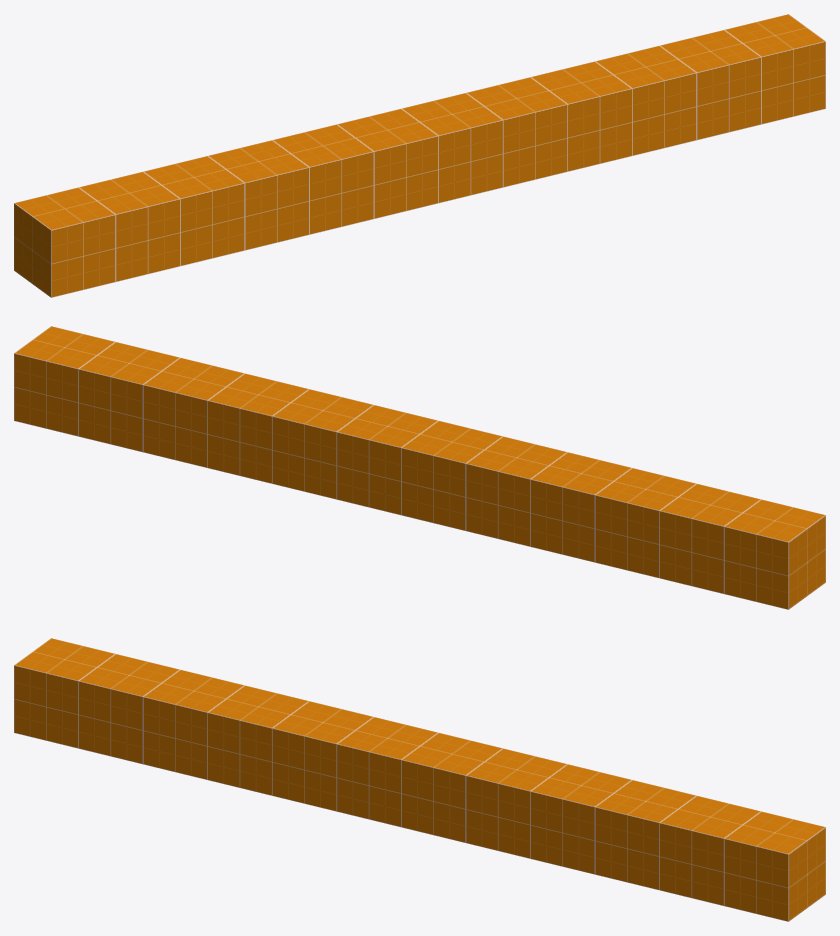
Rendered from Block_12x1x1.obj.
The picture shows the model from 3 angles, top to bottom: view 1: azimuth 30°, elevation 25°; view 2: azimuth 150°, elevation 25°; view 3: azimuth 330°, elevation 25°; orthographic projection.
Visible parts, largest first — view 1: Block_12x1x1_Cube.236; view 2: Block_12x1x1_Cube.236; view 3: Block_12x1x1_Cube.236.
Boxes of the visible parts, x1=… form: Block_12x1x1_Cube.236: x1=14, y1=14, x2=825, y2=297; Block_12x1x1_Cube.236: x1=14, y1=326, x2=825, y2=609; Block_12x1x1_Cube.236: x1=14, y1=638, x2=825, y2=921.
Size of the model in its own units: 12 by 1 by 1.
Materials: 1 (1 with a texture image).
